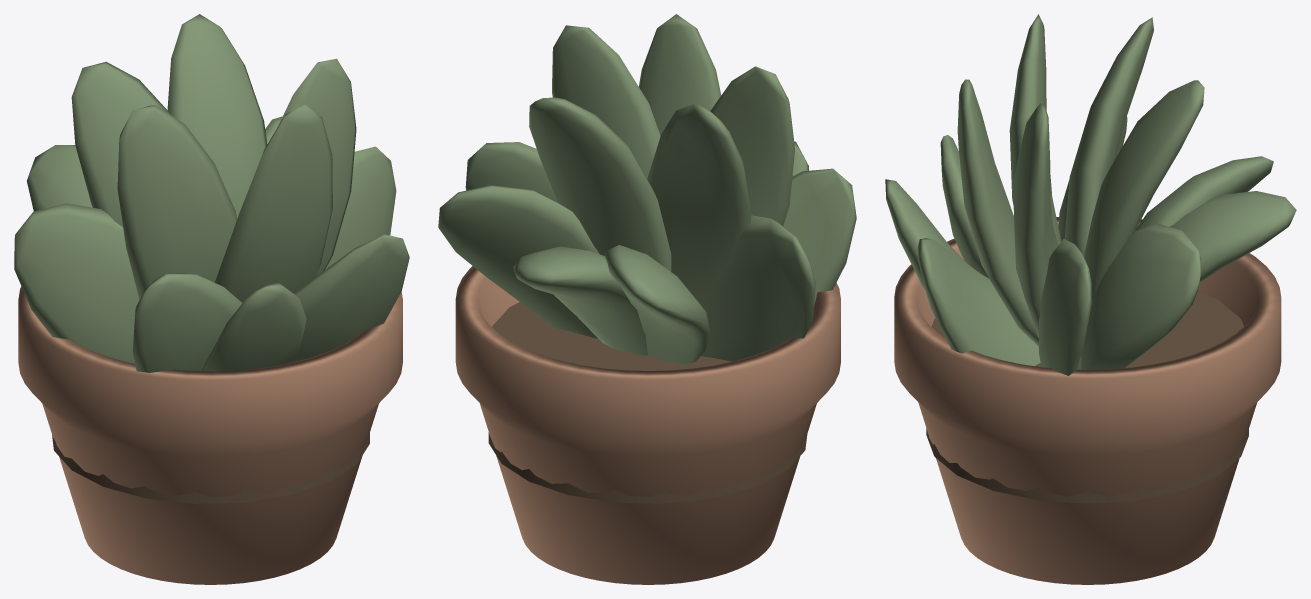
Rendered from succulent.glb.
3 renders of one model, left to right at view 1: azimuth 30°, elevation 25°; view 2: azimuth 150°, elevation 25°; view 3: azimuth 270°, elevation 25°, orthographic.
Parts seen in each view (by area): view 1: planter-hollow-vessel, rosette-9, rosette-4, rosette-11, rosette-10, rosette-3, rosette-1, rosette-12, rosette-6, rosette-8, rosette-0, rosette-7 (+1 smaller); view 2: planter-hollow-vessel, rosette-12, rosette-10, rosette-4, rosette-5, rosette-9, planter-contained-soil, rosette-8, rosette-2, rosette-7, rosette-1, rosette-11 (+1 smaller); view 3: planter-hollow-vessel, rosette-5, rosette-10, rosette-11, rosette-3, rosette-12, planter-contained-soil, rosette-8, rosette-2, rosette-0, rosette-7, rosette-9 (+2 smaller).
Part boxes in pixels (<box>): planter-hollow-vessel: <box>18,286,402,584</box>; rosette-9: <box>117,105,236,299</box>; rosette-4: <box>14,203,139,363</box>; rosette-11: <box>214,105,332,302</box>; rosette-10: <box>167,14,267,218</box>; rosette-3: <box>293,234,409,362</box>; rosette-1: <box>132,273,242,372</box>; rosette-12: <box>71,61,172,227</box>; rosette-6: <box>202,283,306,372</box>; rosette-8: <box>278,58,356,276</box>; rosette-0: <box>325,146,396,269</box>; rosette-7: <box>27,145,92,211</box>; planter-hollow-vessel: <box>455,266,840,584</box>; rosette-12: <box>647,104,751,302</box>; rosette-10: <box>529,97,671,271</box>; rosette-4: <box>699,215,815,361</box>; rosette-5: <box>438,185,599,338</box>; rosette-9: <box>710,66,794,226</box>; planter-contained-soil: <box>488,302,807,503</box>; rosette-8: <box>552,25,660,179</box>; rosette-2: <box>513,246,647,355</box>; rosette-7: <box>604,245,710,364</box>; rosette-1: <box>783,168,856,304</box>; rosette-11: <box>638,14,721,135</box>; planter-hollow-vessel: <box>894,217,1281,584</box>; rosette-5: <box>1081,223,1201,369</box>; rosette-10: <box>1084,80,1204,299</box>; rosette-11: <box>957,79,1038,346</box>; rosette-3: <box>917,238,1040,366</box>; rosette-12: <box>1064,17,1153,256</box>; planter-contained-soil: <box>926,291,1248,503</box>; rosette-8: <box>1013,103,1058,338</box>; rosette-2: <box>1169,191,1296,282</box>; rosette-0: <box>1039,239,1091,375</box>; rosette-7: <box>1136,156,1273,230</box>; rosette-9: <box>1009,14,1061,244</box>.
Bounding box in the file's own units: 0.2632 × 0.321 × 0.255.
